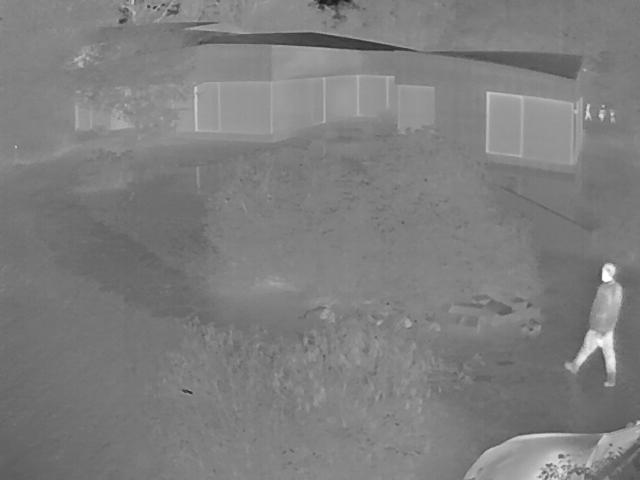person: (566, 262, 625, 386)
